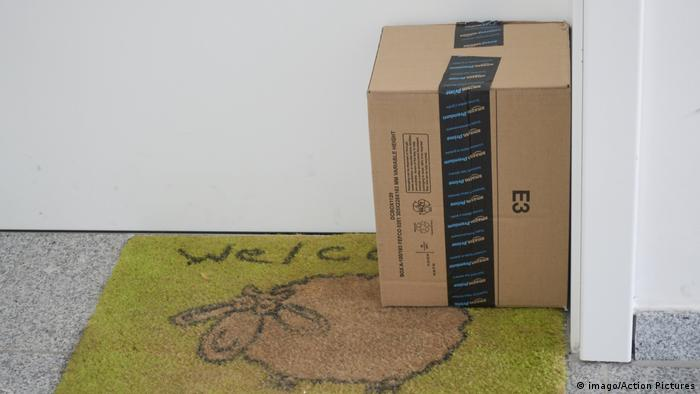package: (366, 18, 576, 314)
